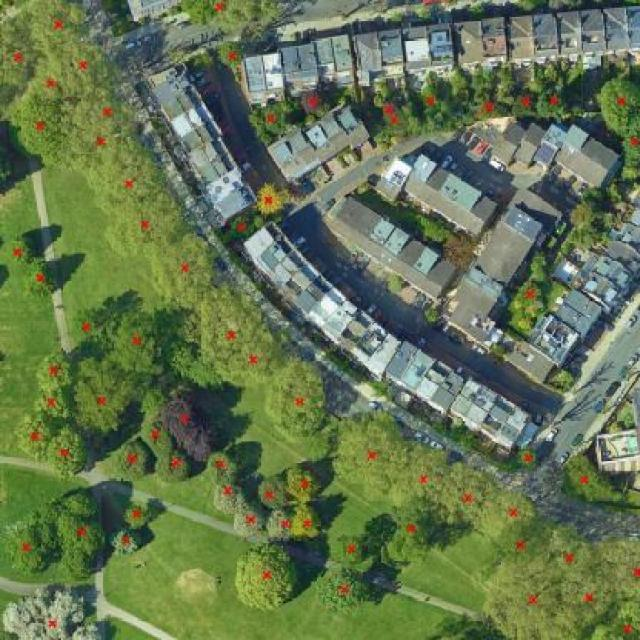tree: (165, 292, 270, 366), (489, 566, 591, 640), (330, 408, 410, 501), (0, 582, 108, 639), (265, 348, 327, 444), (89, 141, 165, 207), (105, 193, 186, 252), (236, 540, 299, 614), (78, 358, 138, 433), (157, 235, 218, 307), (57, 493, 106, 579), (385, 498, 440, 571), (438, 462, 496, 530), (0, 509, 60, 574), (390, 435, 448, 502), (217, 328, 285, 384), (538, 520, 598, 582), (108, 311, 165, 375), (22, 0, 93, 51), (562, 451, 625, 507), (165, 392, 214, 463), (8, 95, 63, 155), (484, 490, 547, 542), (597, 529, 640, 600), (70, 93, 138, 136), (561, 571, 613, 625), (26, 51, 74, 108), (494, 516, 543, 570), (60, 119, 120, 163), (595, 74, 640, 132), (317, 568, 372, 615), (0, 18, 35, 90), (212, 0, 283, 32), (50, 426, 93, 477), (67, 43, 111, 92), (252, 100, 297, 143), (283, 462, 323, 507), (594, 600, 640, 638), (16, 413, 53, 459), (34, 386, 78, 423), (68, 307, 110, 345), (22, 258, 61, 298), (37, 352, 77, 389), (119, 435, 153, 478), (155, 444, 191, 484), (205, 451, 244, 487), (290, 500, 322, 542), (264, 508, 298, 545), (219, 216, 267, 242), (617, 126, 640, 180), (539, 82, 570, 122), (231, 501, 266, 536), (515, 278, 549, 314), (212, 476, 245, 513), (329, 534, 366, 566), (256, 476, 290, 510), (255, 182, 287, 218), (173, 0, 229, 20), (419, 82, 448, 120), (108, 527, 144, 555), (580, 182, 612, 211), (566, 225, 608, 247), (3, 235, 34, 264), (564, 204, 605, 225), (142, 425, 173, 452), (475, 95, 511, 118), (384, 110, 411, 139), (124, 502, 151, 529), (300, 87, 326, 115), (616, 395, 638, 428), (515, 89, 538, 117), (553, 367, 576, 395), (220, 42, 243, 67), (516, 447, 539, 468), (383, 276, 405, 296), (423, 306, 446, 325), (488, 343, 510, 359), (515, 315, 537, 330), (378, 101, 401, 114)
